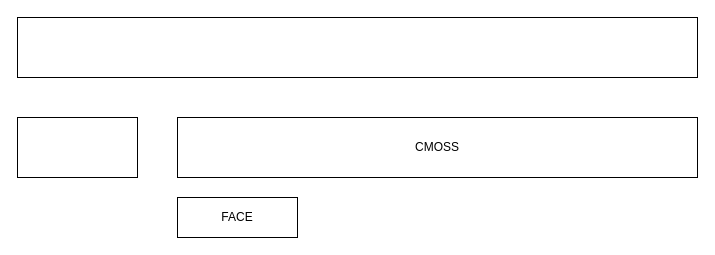
The diagram is 715 pixels wide and 255 high, and some of its shapes have lost their labels. The centre of each missing label's shape, as x and y in pixels:
"HOST" goes at (x=77, y=147).
"SOSA" goes at (x=357, y=47).
